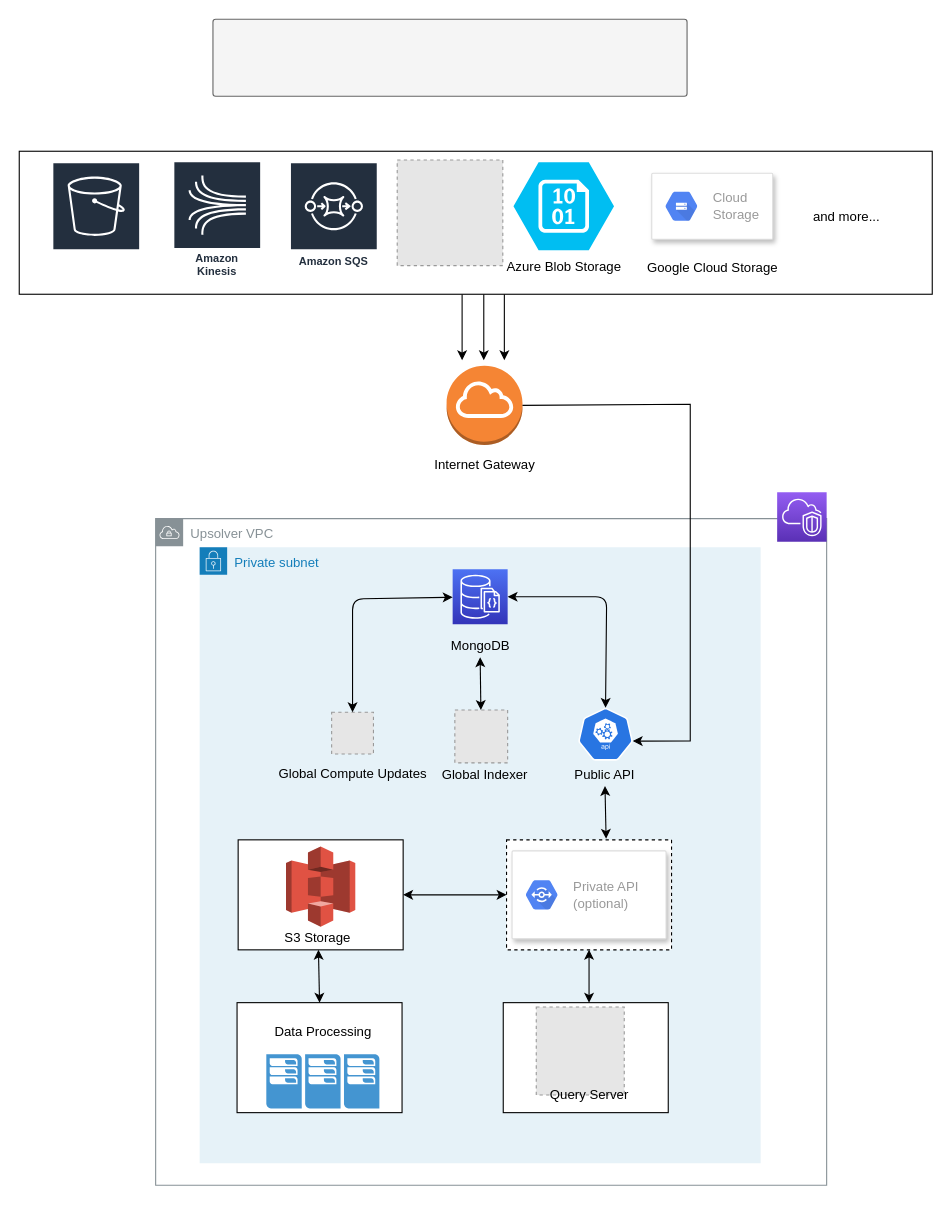
This 952x1205 diagram has some shape labels left out. Grey dashed boxes stand in for pictures. Here are the shapes that lost their labels. From the top down, the centre of each, then its label:
At point (449, 57): "Upsolver fully managed deployment".
At point (95, 216): "Amazon S3".
